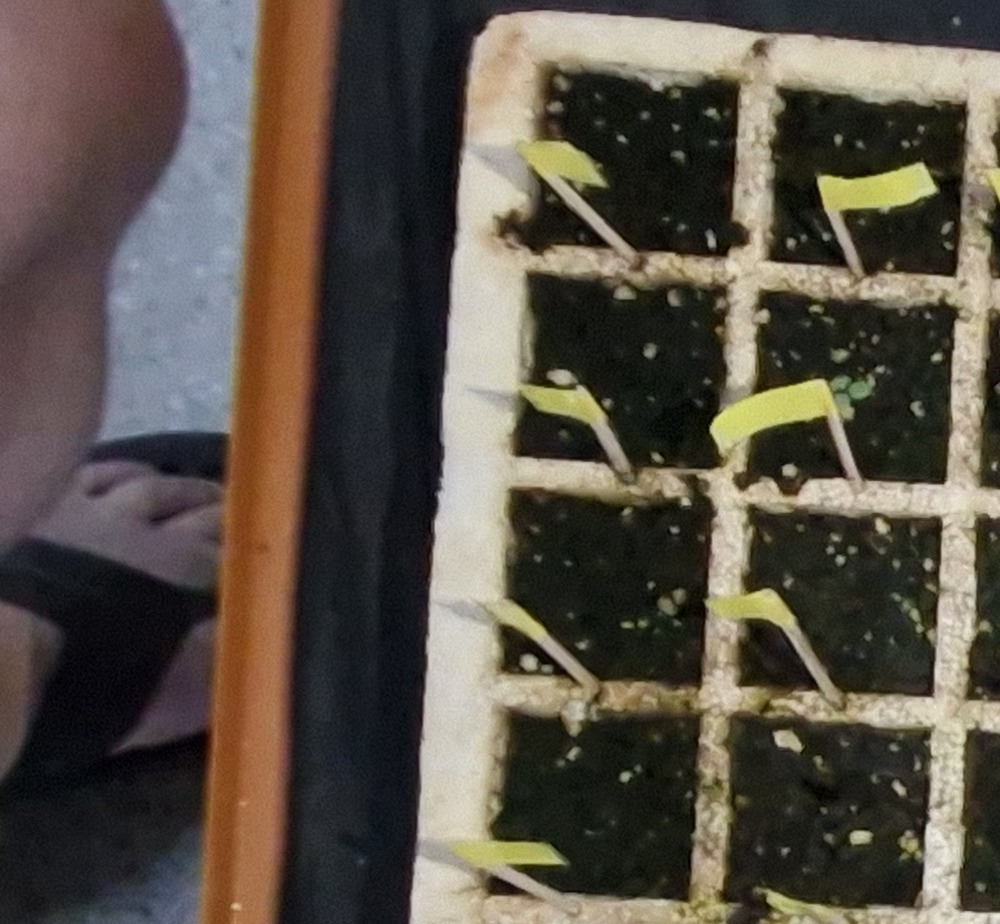Folha: (849, 381, 871, 399), (830, 376, 852, 391), (834, 394, 851, 406)
Germinacao: (829, 375, 872, 406)
